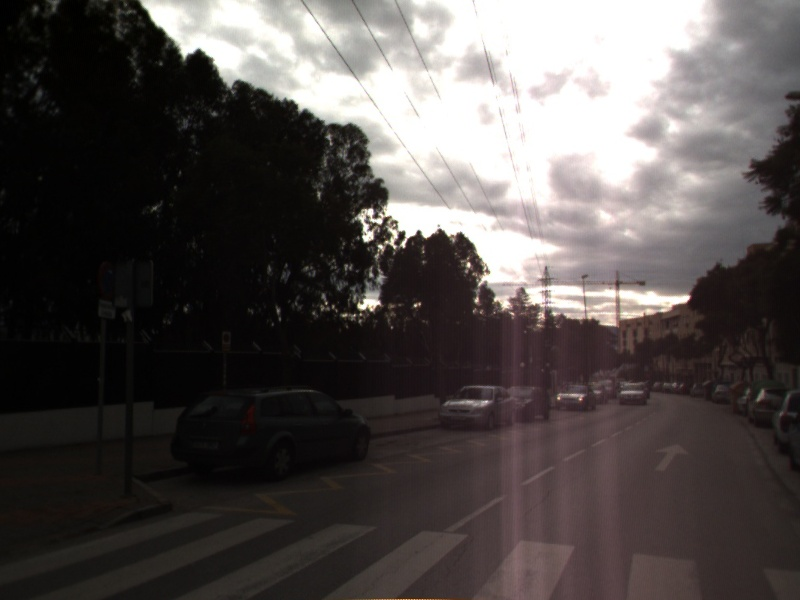STRAIGHT: (651, 440, 692, 473)
